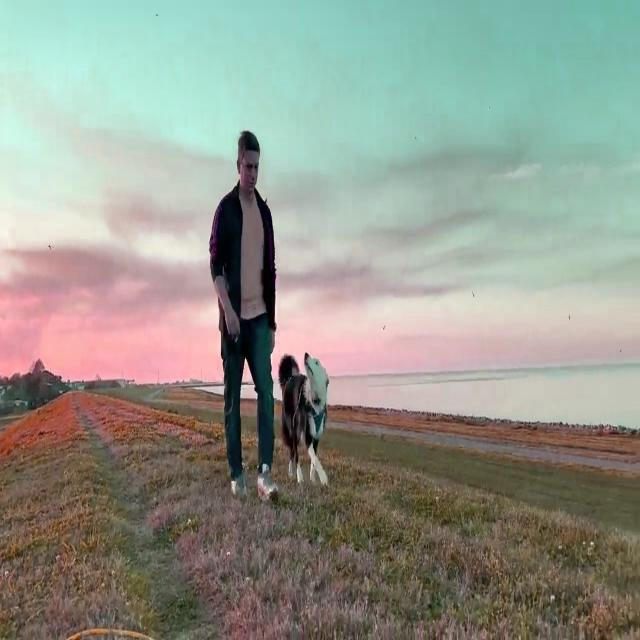Unleashed_Dog: (234, 323, 330, 490)
